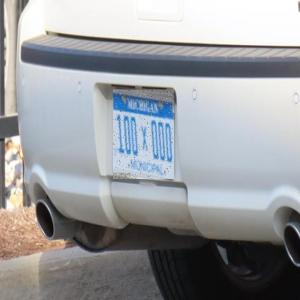Plate: (112, 90, 175, 179)
